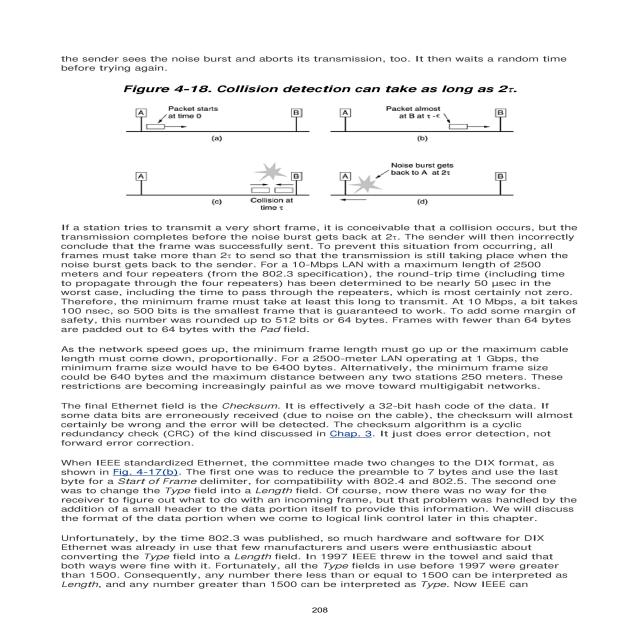diagram: (88, 78, 546, 213)
